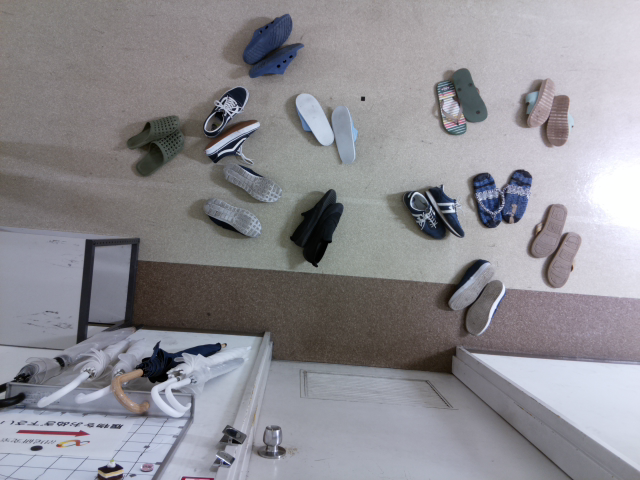Copy of Copy of Copy of Copy of Copy of Copy of Copy of Copy of Copy of Copy of: (218, 156, 289, 209), (197, 81, 257, 141), (200, 114, 265, 168), (249, 34, 313, 88), (239, 10, 303, 64), (290, 184, 339, 254), (425, 70, 474, 139), (198, 193, 266, 242), (452, 58, 500, 127), (128, 128, 189, 179), (303, 198, 346, 270), (542, 222, 584, 294), (121, 109, 186, 153), (524, 199, 569, 260)
Copy of Copy of Copy of Copy of Copy of Copy of Copy of Copy of Copy of shoe: (540, 93, 577, 149)
Copy of Copy of Copy of Copy of Copy of Copy of Copy of Copy of shoe: (519, 70, 555, 131)
Copy of Copy of Copy of Copy of Copy of Copy of Copy of shoe: (495, 161, 537, 229)
Copy of Copy of Copy of Copy of Copy of Copy of shoe: (465, 166, 508, 234)
Copy of Copy of Copy of Copy of Copy of shoe: (419, 176, 467, 245)
Copy of Copy of Copy of Copy of Copy of umbrella: (1, 319, 136, 407)
Copy of Copy of Copy of Copy of shoe: (400, 182, 453, 242)
Copy of Copy of Copy of Copy of umbrella: (32, 324, 141, 408)
Copy of Copy of Copy of shoe: (442, 253, 498, 317)
Copy of Copy of Copy of umbrella: (73, 326, 170, 412)
Copy of Copy of shoe: (461, 273, 506, 341)
Copy of Copy of umbrella: (104, 335, 225, 418)
Copy of shoe: (290, 84, 336, 152)
Copy of umbrella: (165, 348, 267, 426)
shoe: (329, 101, 374, 169)
umbrella: (148, 334, 270, 422)
